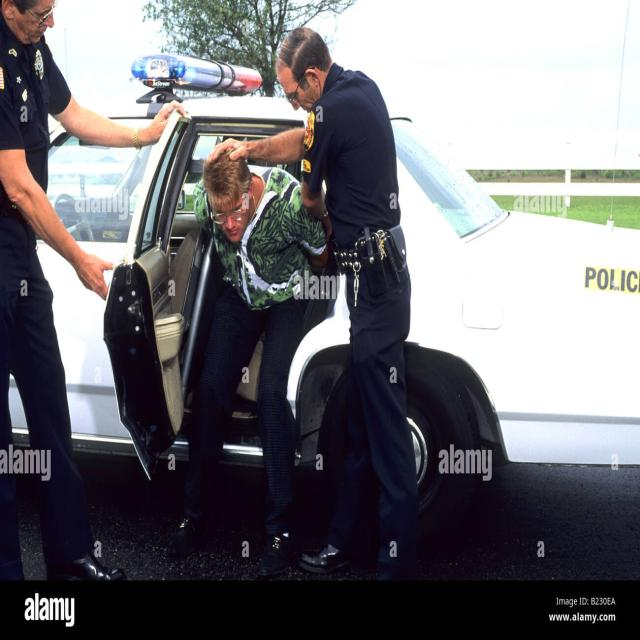police: (0, 0, 161, 591), (277, 24, 433, 578)
